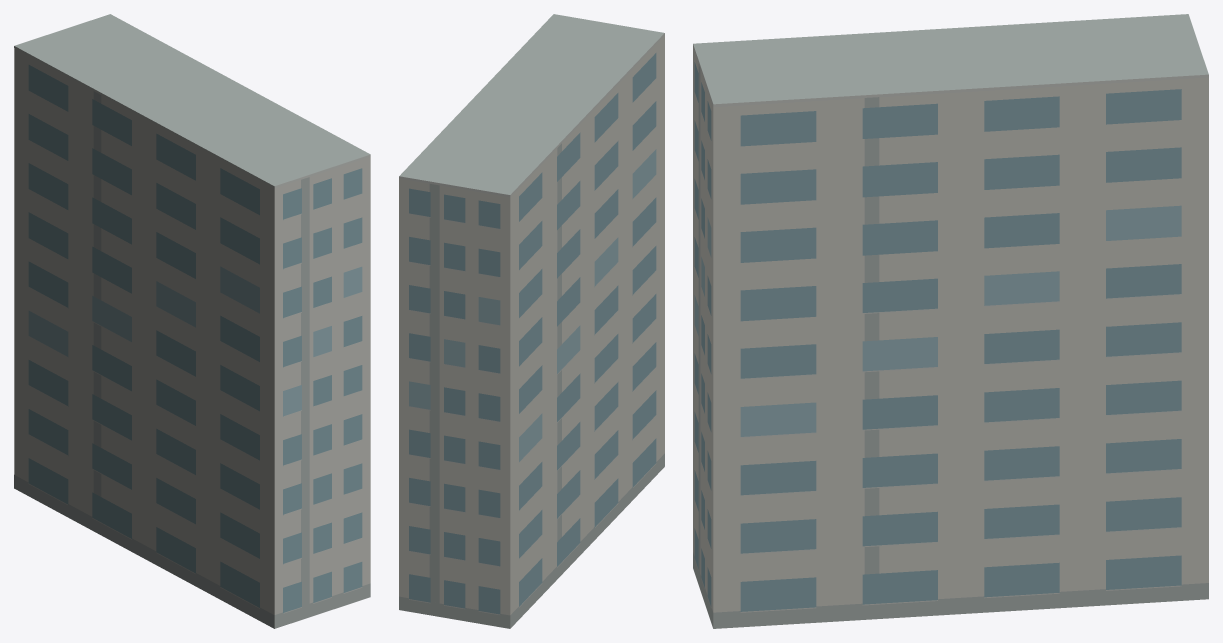
The model's file is residential-0db60394-910a-40a6-8f8e-61407aa3592c.glb.
The picture shows the model from 3 angles, left to right: view 1: azimuth 30°, elevation 25°; view 2: azimuth 150°, elevation 25°; view 3: azimuth 270°, elevation 25°; orthographic projection. The views are drawn at different scales.
Visible parts, largest first — view 1: residential-0db60394-910a-40a6-8f8e-61407aa3592c.tmp; view 2: residential-0db60394-910a-40a6-8f8e-61407aa3592c.tmp; view 3: residential-0db60394-910a-40a6-8f8e-61407aa3592c.tmp.
Boxes of the visible parts, bbox=[...] form: residential-0db60394-910a-40a6-8f8e-61407aa3592c.tmp: bbox=[14, 14, 370, 628]; residential-0db60394-910a-40a6-8f8e-61407aa3592c.tmp: bbox=[399, 14, 664, 628]; residential-0db60394-910a-40a6-8f8e-61407aa3592c.tmp: bbox=[693, 14, 1208, 628].
Bounding box in the file's own units: 17.36 × 47 × 41.89.
